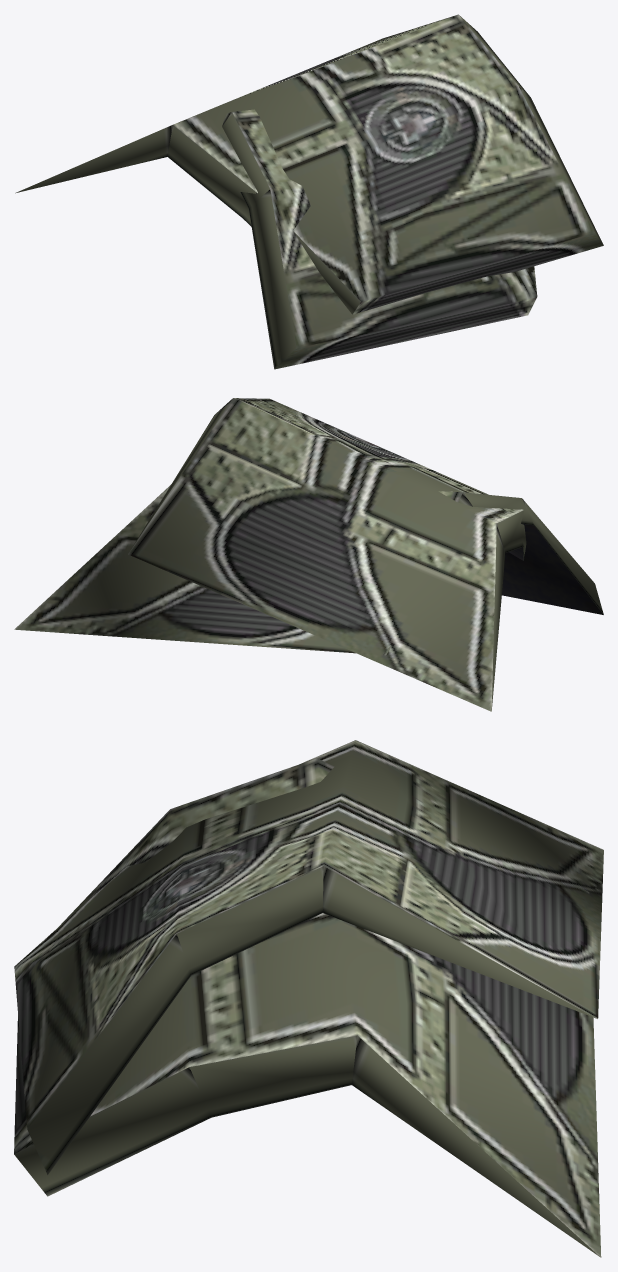
The model's file is ShoulderPads6__FDC.glb.
3 renders of one model, top to bottom at view 1: azimuth 30°, elevation 25°; view 2: azimuth 150°, elevation 25°; view 3: azimuth 270°, elevation 25°, orthographic. The views are drawn at different scales.
Visible parts, largest first — view 1: ShoulderPads6; view 2: ShoulderPads6; view 3: ShoulderPads6.
Boxes of the visible parts, <box> form: ShoulderPads6: <box>15,14,603,369</box>; ShoulderPads6: <box>14,398,603,711</box>; ShoulderPads6: <box>14,740,603,1257</box>.
Bounding box in the file's own units: 13.97 × 6.37 × 9.83.
Materials: 1 (1 with a texture image).
